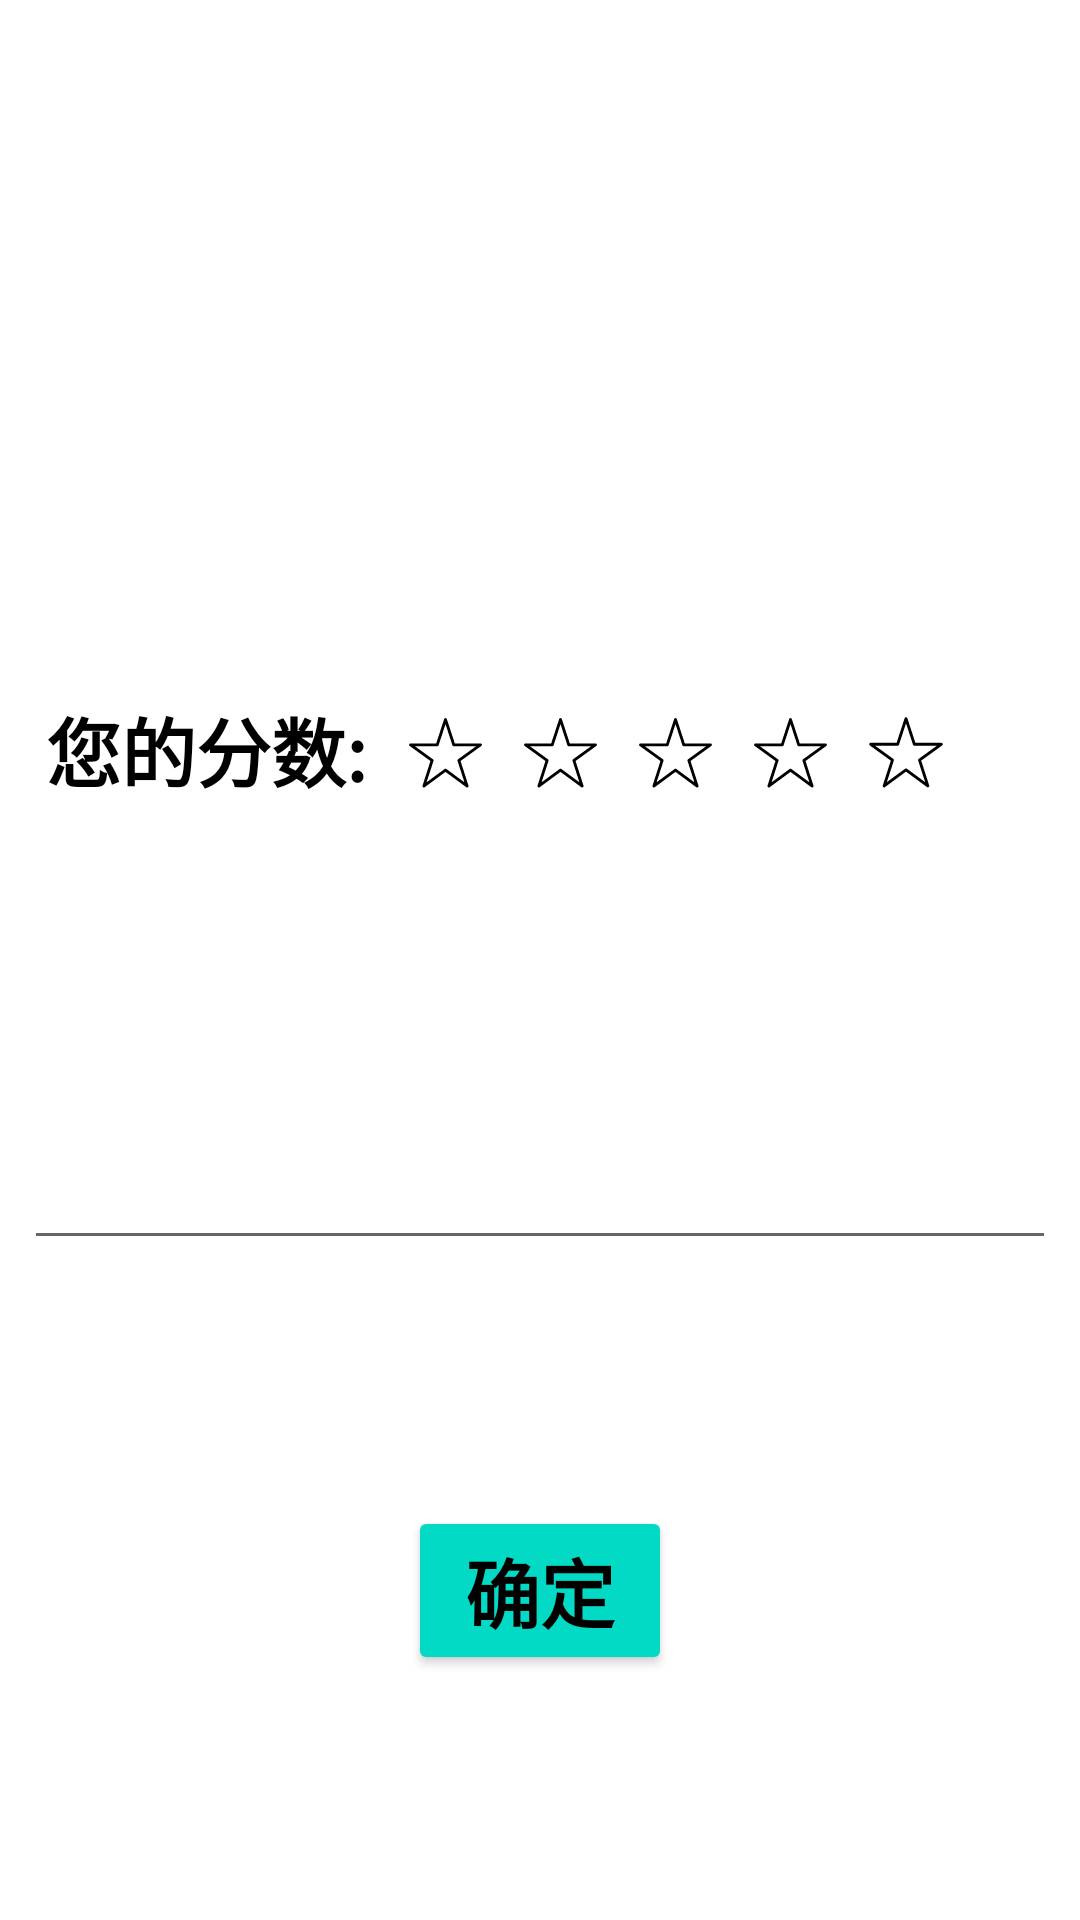

Locate icon controls on the screen. Image size 1080 x 1920, boxes as (x1, y1, x2, y2).
no mark star: (869, 717, 943, 788), (409, 718, 482, 788), (524, 718, 597, 788), (639, 718, 712, 788), (754, 718, 827, 788)
